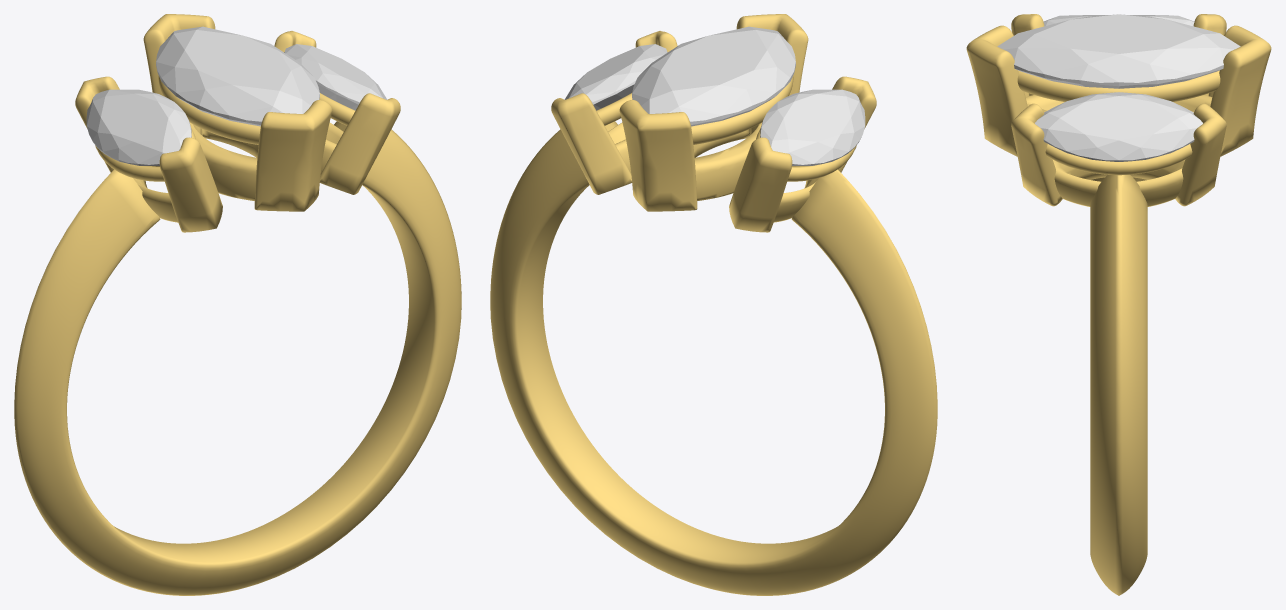
The model's file is diamond-marquise-yellowgold-protectededges2prongs-knifeedge-3stone.glb.
3 views of the same model, side by side, from view 1: azimuth 30°, elevation 25°; view 2: azimuth 150°, elevation 25°; view 3: azimuth 270°, elevation 25° (orthographic).
Parts seen in each view (by area): view 1: metal, stone, side.001, side; view 2: metal, stone, side.001, side; view 3: metal, stone, side, side.001.
Boxes of the visible parts, x1,y1,x2,y2 form: metal: (14,14,461,595); stone: (156,26,319,126); side.001: (86,89,191,165); side: (284,44,387,110); metal: (490,14,937,595); stone: (632,26,795,126); side.001: (760,89,865,165); side: (564,44,667,110); metal: (966,14,1271,595); stone: (997,14,1240,88); side: (1035,92,1202,161); side.001: (1043,15,1194,26).
Bounding box in the file's own units: 20.1 × 22.73 × 11.69.
